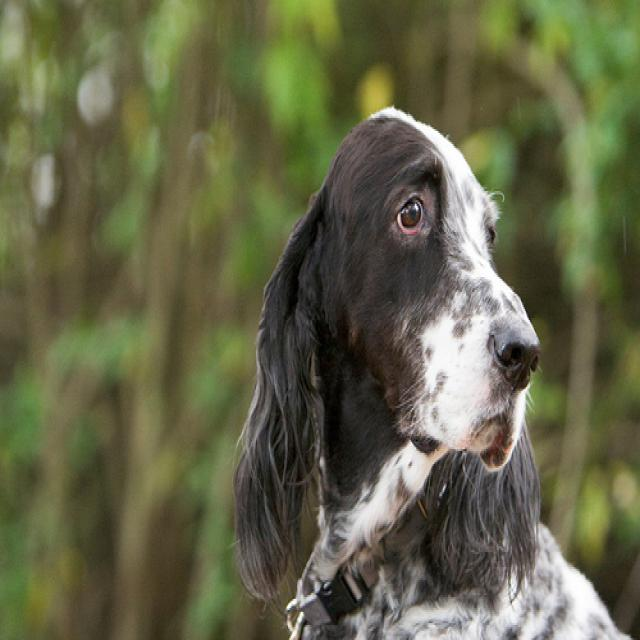dog: (232, 105, 539, 595)
